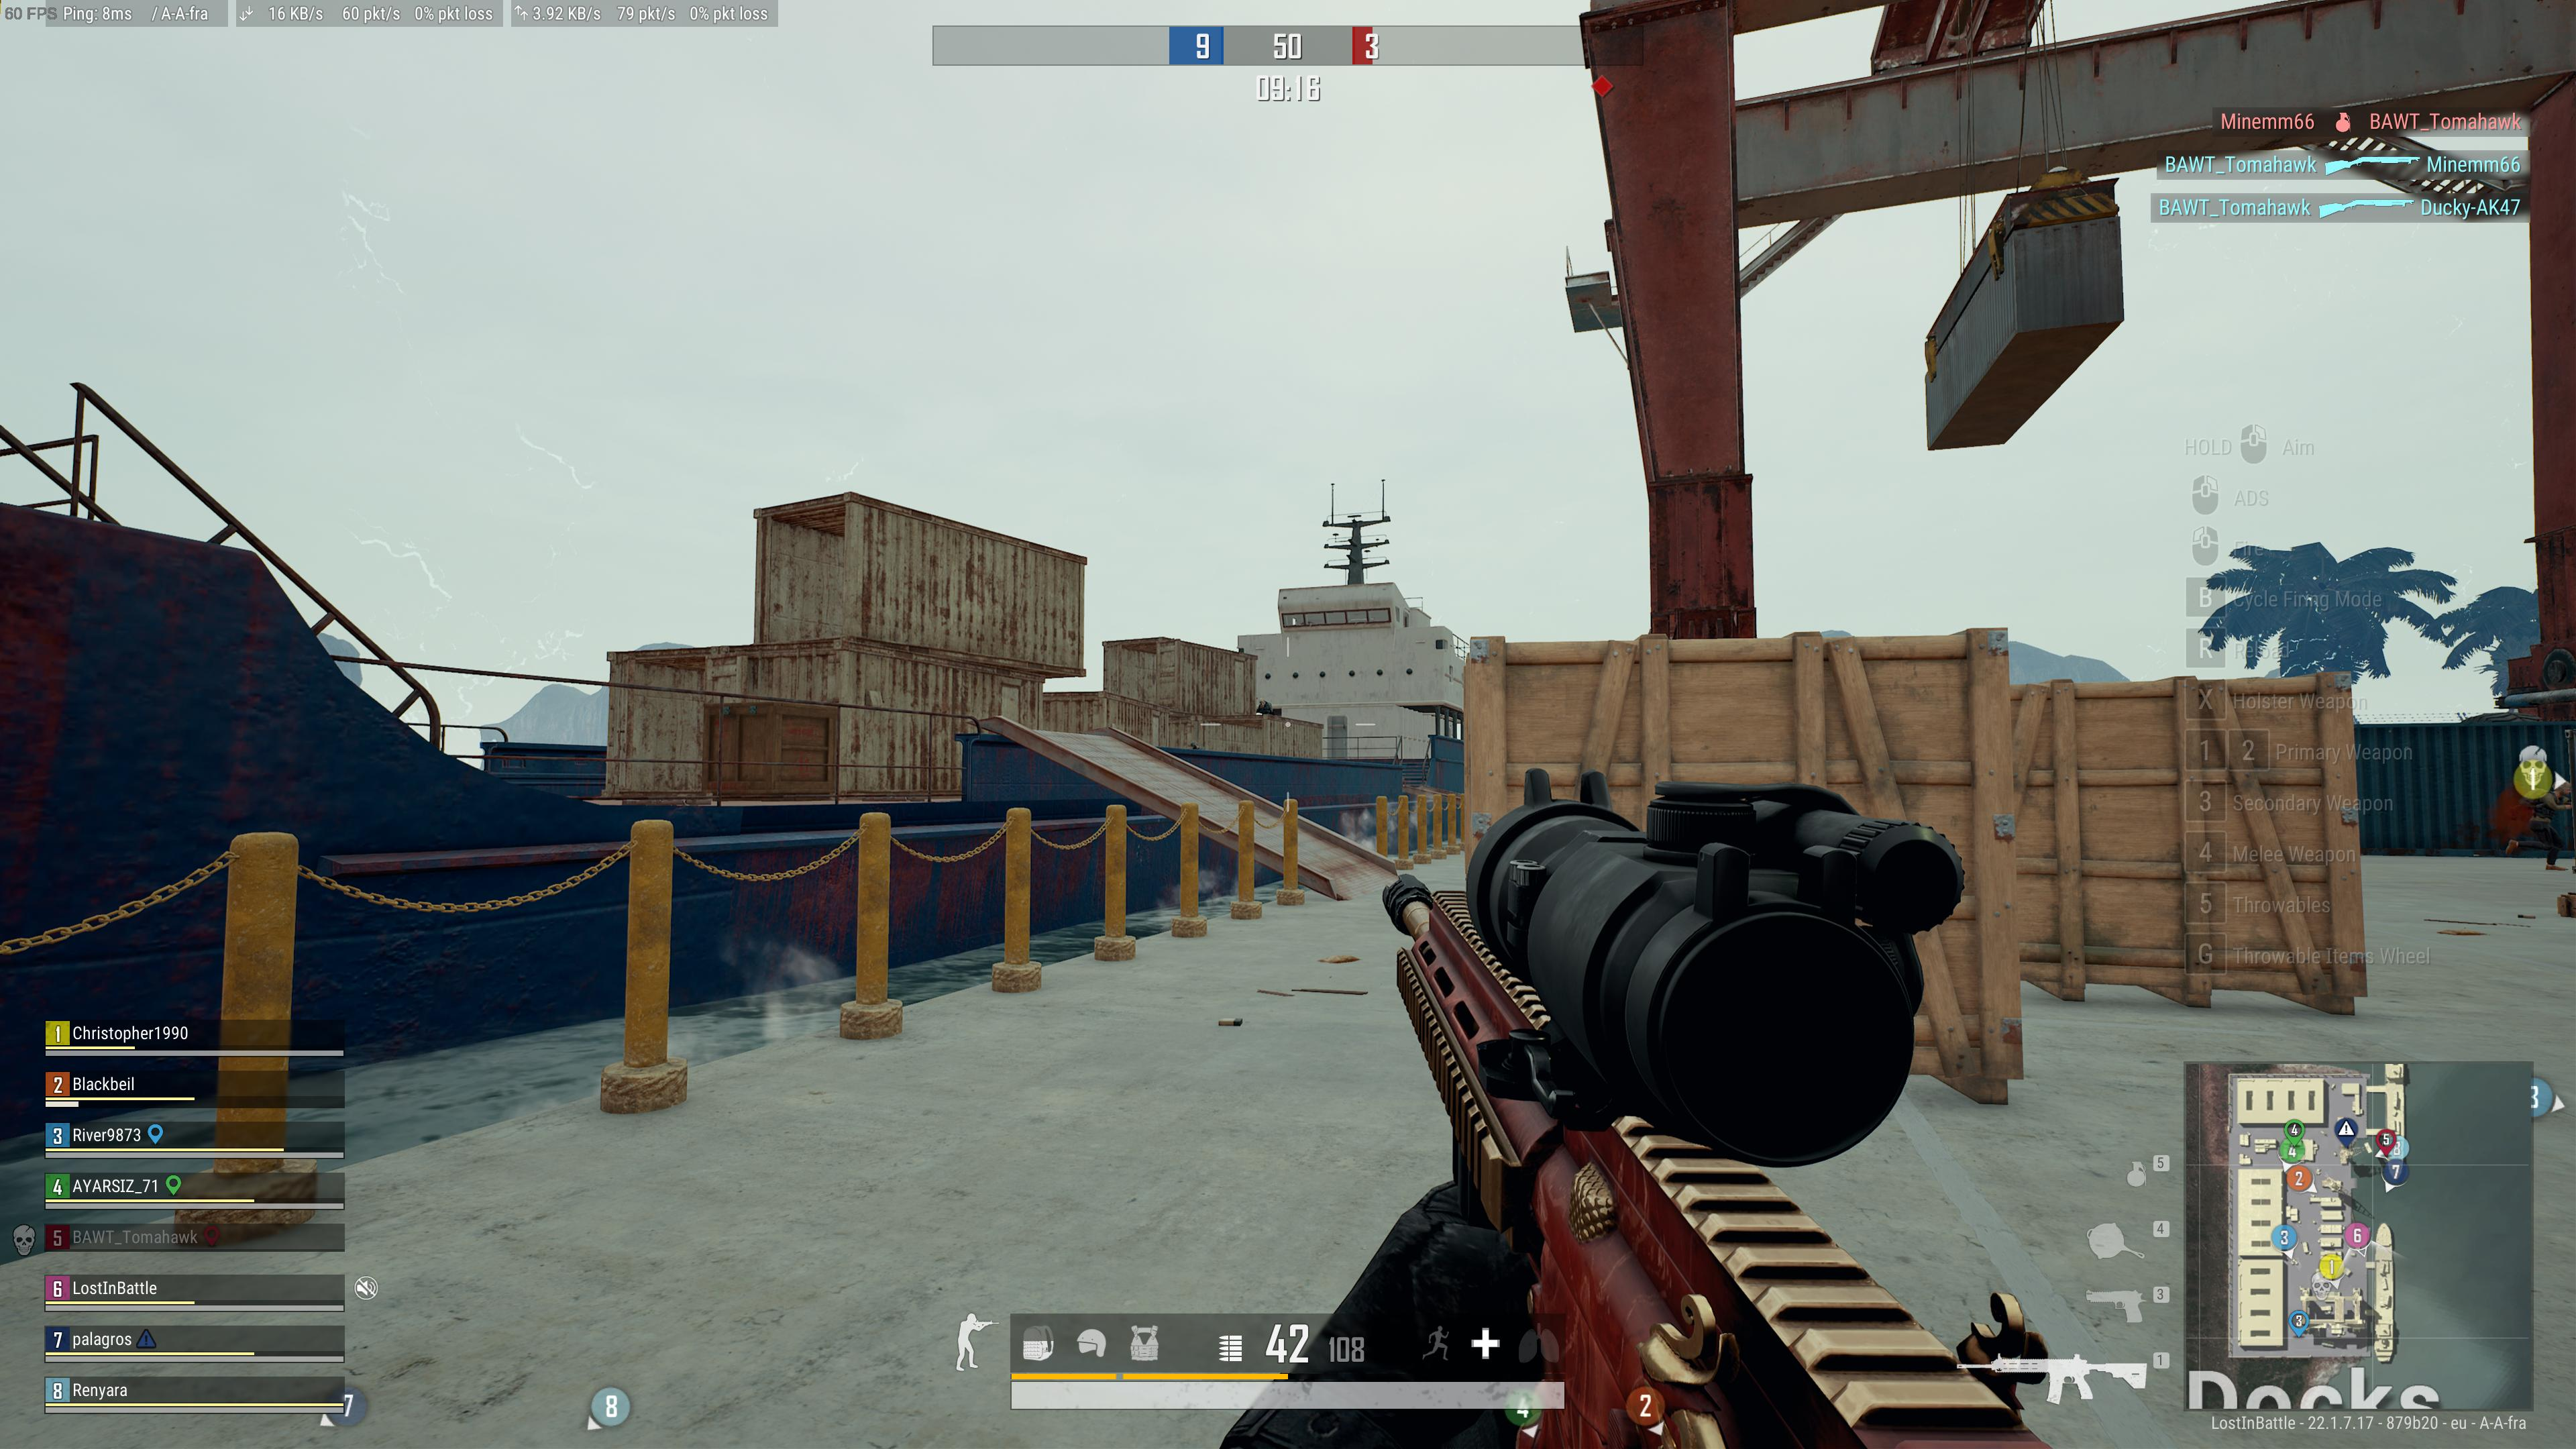enemy: (1254, 697, 1272, 713)
enemy_head: (1258, 697, 1265, 706)
friendly: (2503, 775, 2571, 870)
